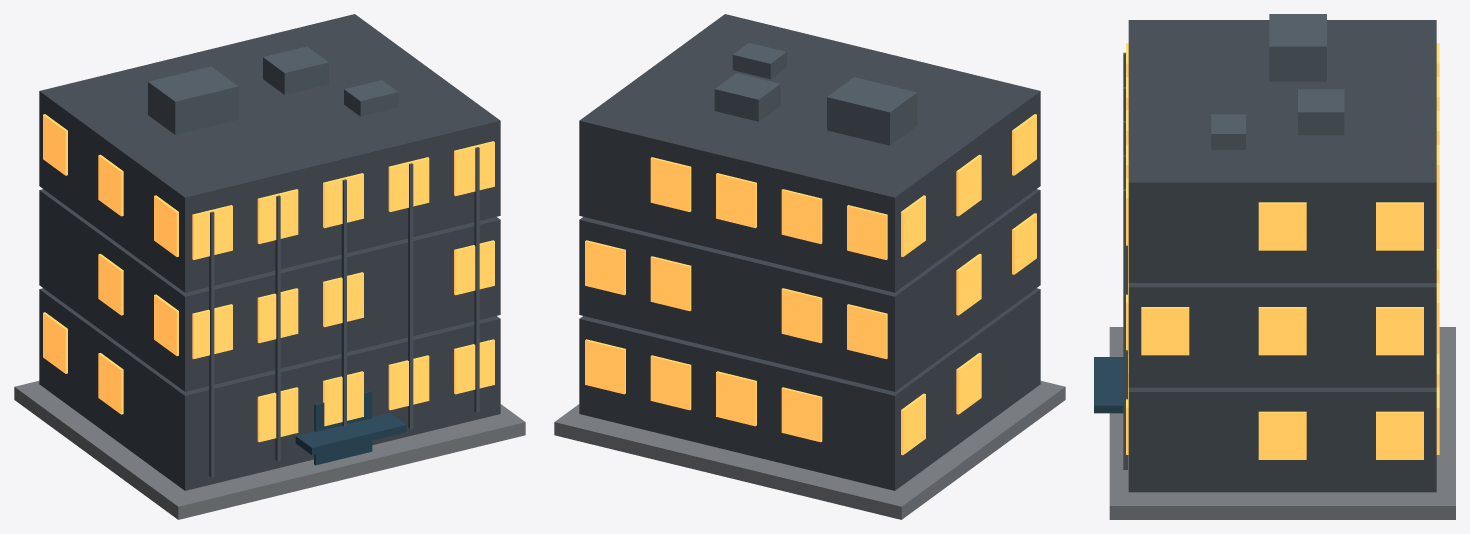
The model's file is stage 3.glb.
3 views of the same model, side by side, from view 1: azimuth 30°, elevation 25°; view 2: azimuth 150°, elevation 25°; view 3: azimuth 270°, elevation 25° (orthographic). The views are drawn at different scales.
Parts seen in each view (by area): view 1: BuildingMass, Windows, Foundation.002, RooftopUnits, FacadeMullions, Entry; view 2: BuildingMass, Windows, Foundation.002, RooftopUnits; view 3: BuildingMass, Windows, Foundation.002, RooftopUnits, Entry, FacadeMullions.
Boxes of the visible parts, bbox=[...] form: BuildingMass: bbox=[39, 14, 500, 490]; Windows: bbox=[43, 114, 494, 442]; Foundation.002: bbox=[14, 381, 525, 519]; RooftopUnits: bbox=[148, 46, 398, 134]; FacadeMullions: bbox=[209, 147, 479, 477]; Entry: bbox=[295, 390, 406, 465]; BuildingMass: bbox=[579, 14, 1040, 490]; Windows: bbox=[585, 114, 1036, 455]; Foundation.002: bbox=[554, 381, 1065, 519]; RooftopUnits: bbox=[714, 43, 917, 145]; BuildingMass: bbox=[1128, 20, 1436, 492]; Windows: bbox=[1126, 43, 1439, 459]; Foundation.002: bbox=[1109, 327, 1455, 519]; RooftopUnits: bbox=[1211, 14, 1344, 149]; Entry: bbox=[1094, 357, 1123, 413]; FacadeMullions: bbox=[1123, 52, 1127, 469].
Bounding box in the file's own units: 11 × 10.45 × 9.4.
